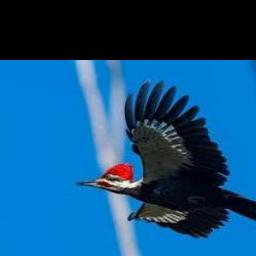Woodpecker: (77, 79, 256, 238)
